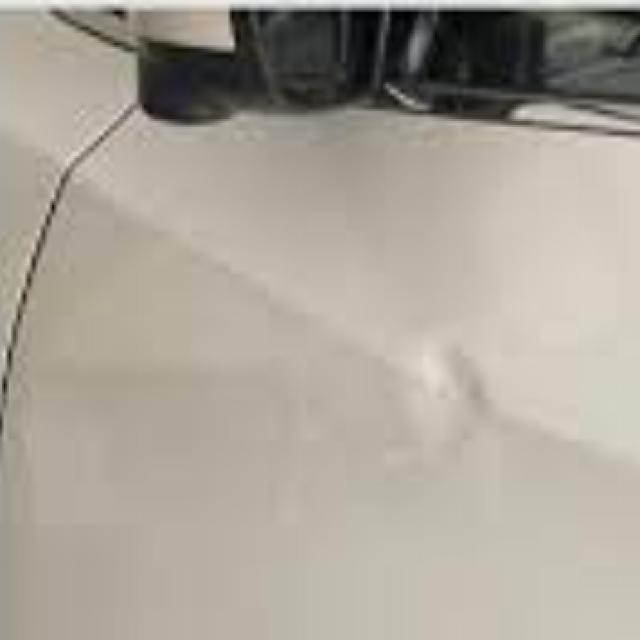dents: (398, 324, 526, 479)
